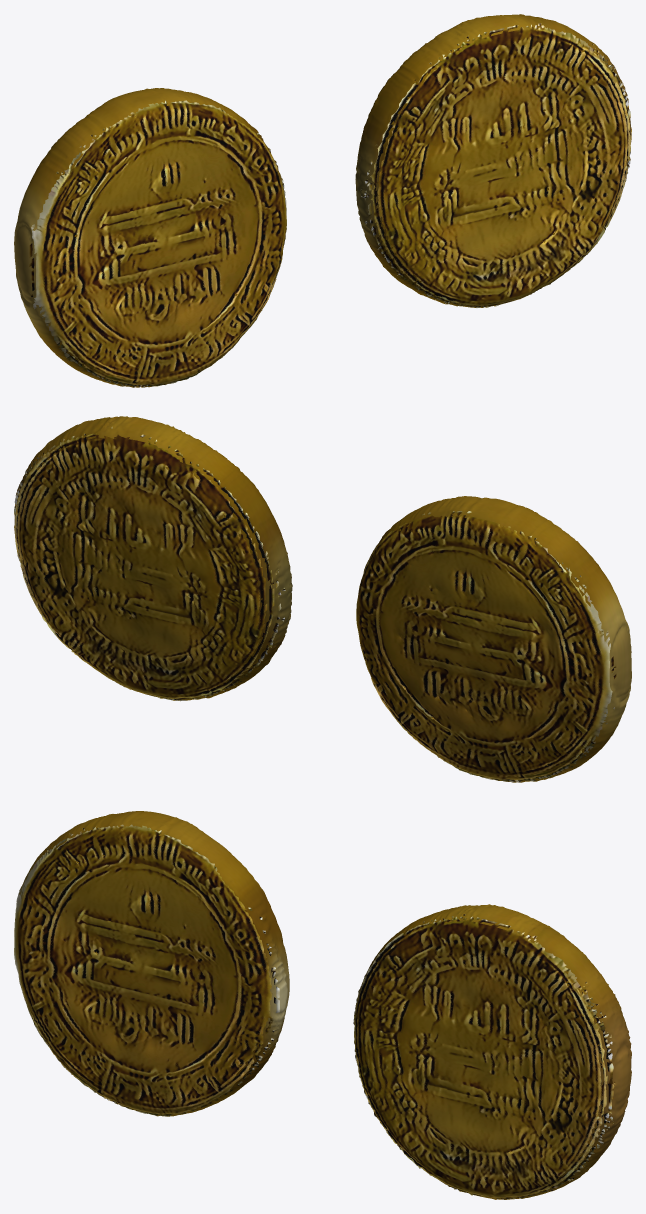
File: kfl-2256.glb
The picture shows the model from 3 angles, top to bottom: view 1: azimuth 30°, elevation 25°; view 2: azimuth 150°, elevation 25°; view 3: azimuth 330°, elevation 25°; orthographic projection.
Visible parts, largest first — view 1: kfl-2256; view 2: kfl-2256; view 3: kfl-2256.
Boxes of the visible parts, left/top/right/bottom form: kfl-2256: left=14, top=14, right=631, bottom=387; kfl-2256: left=14, top=416, right=631, bottom=782; kfl-2256: left=14, top=811, right=631, bottom=1199.
Bounding box in the file's own units: 0.9962 × 0.4383 × 0.1185.
Materials: 4 (4 with a texture image).
